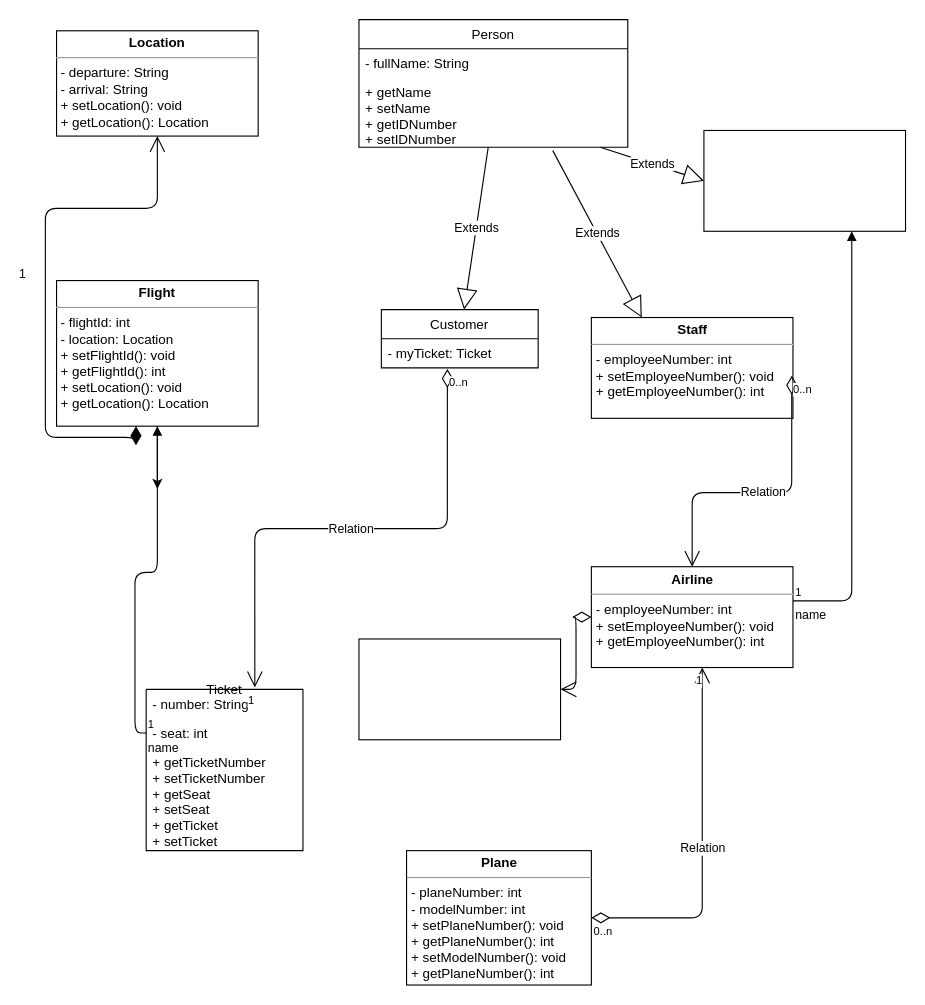
This 925x1005 diagram has some shape labels left out. The shapes that lost their labels are listed below. From the top down, each one's centre as x and y in pixels, then its label:
At point 804,180: "Pilot - licenseNumber: int + setLicenseNumber(): void + getLicenseeNumber(): int".
At point 459,689: "Airport - id: int + setAirportId(): void + getAirportId(): int".
